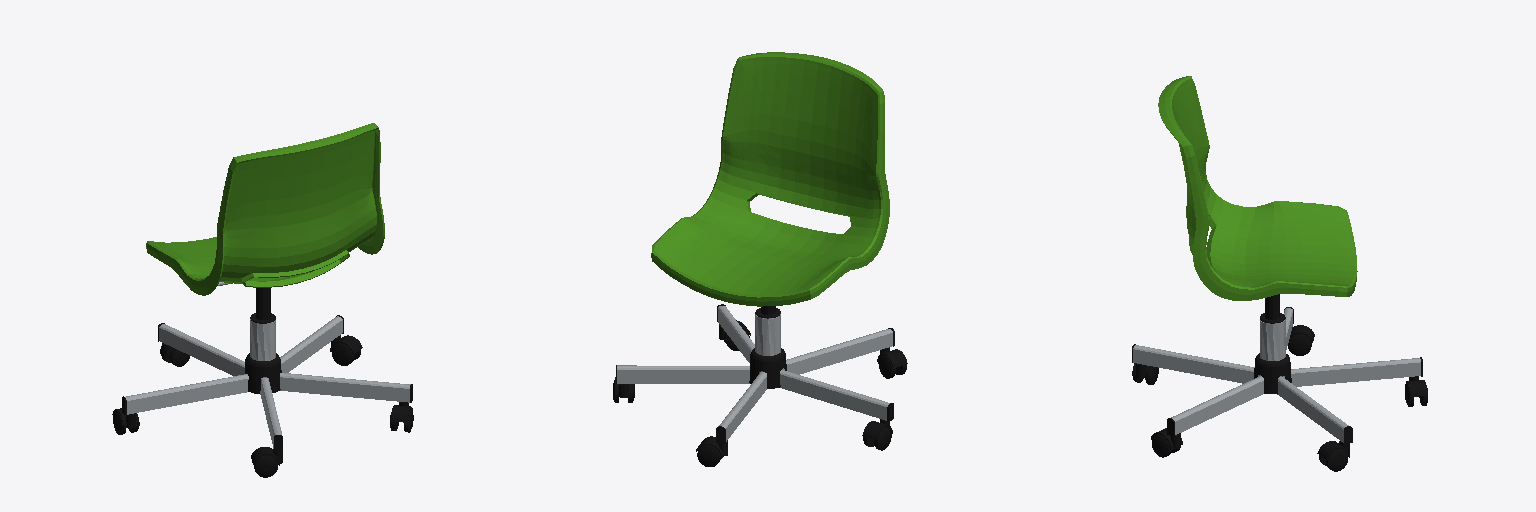
3 views of the same model, side by side, from view 1: azimuth 30°, elevation 25°; view 2: azimuth 150°, elevation 25°; view 3: azimuth 270°, elevation 25° (orthographic).
Parts seen in each view (by area): view 1: Mesh2 Group2 SNILLE_IKEA1 Model, Mesh8 Group6 SNILLE_IKEA1 Model, Mesh1 Group1 SNILLE_IKEA1 Model, Mesh7 Group5 SNILLE_IKEA1 Model, Mesh3 Group3 SNILLE_IKEA1 Model; view 2: Mesh2 Group2 SNILLE_IKEA1 Model, Mesh8 Group6 SNILLE_IKEA1 Model, Mesh7 Group5 SNILLE_IKEA1 Model, Mesh1 Group1 SNILLE_IKEA1 Model; view 3: Mesh2 Group2 SNILLE_IKEA1 Model, Mesh8 Group6 SNILLE_IKEA1 Model, Mesh7 Group5 SNILLE_IKEA1 Model, Mesh1 Group1 SNILLE_IKEA1 Model.
Part boxes in pixels (x1,y1,x2,y2): Mesh2 Group2 SNILLE_IKEA1 Model: (146, 123, 384, 295); Mesh8 Group6 SNILLE_IKEA1 Model: (122, 315, 412, 451); Mesh1 Group1 SNILLE_IKEA1 Model: (245, 353, 281, 393); Mesh7 Group5 SNILLE_IKEA1 Model: (250, 319, 275, 360); Mesh3 Group3 SNILLE_IKEA1 Model: (250, 288, 275, 323); Mesh2 Group2 SNILLE_IKEA1 Model: (651, 52, 889, 306); Mesh8 Group6 SNILLE_IKEA1 Model: (616, 304, 894, 443); Mesh7 Group5 SNILLE_IKEA1 Model: (755, 314, 780, 355); Mesh1 Group1 SNILLE_IKEA1 Model: (749, 348, 786, 388); Mesh2 Group2 SNILLE_IKEA1 Model: (1158, 76, 1357, 300); Mesh8 Group6 SNILLE_IKEA1 Model: (1132, 307, 1422, 444); Mesh7 Group5 SNILLE_IKEA1 Model: (1260, 319, 1285, 360); Mesh1 Group1 SNILLE_IKEA1 Model: (1254, 353, 1291, 393).
Bounding box in the file's own units: 0.5947 × 0.6782 × 0.589.